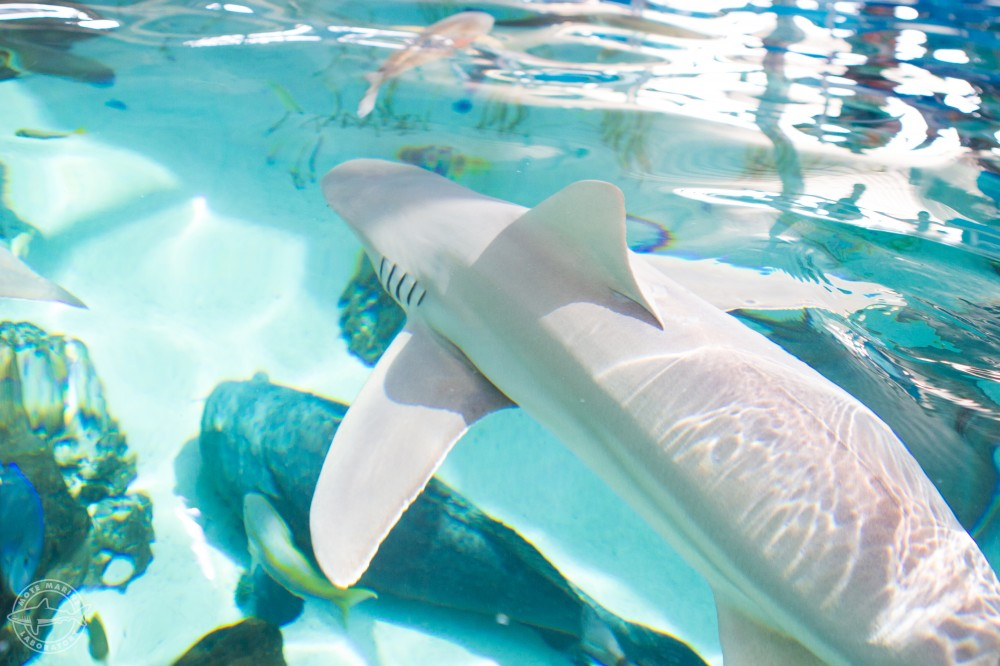shark: (274, 124, 1000, 666)
